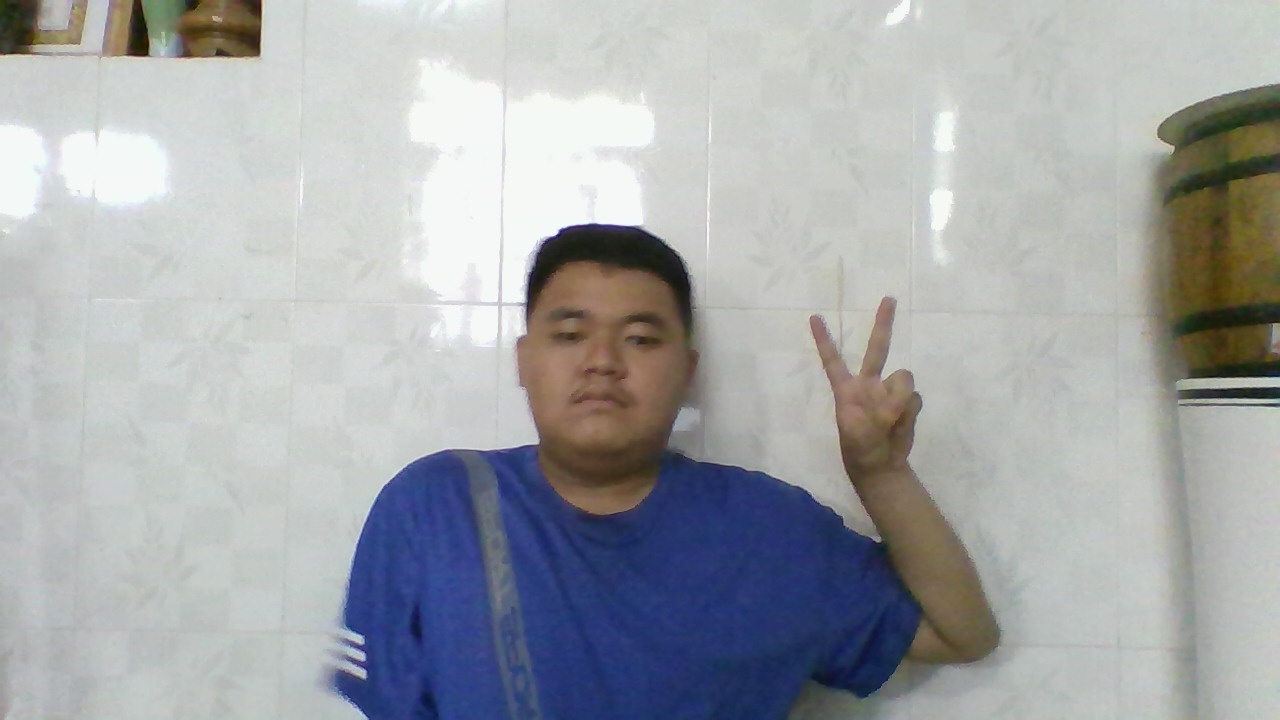V: (798, 286, 931, 487)
